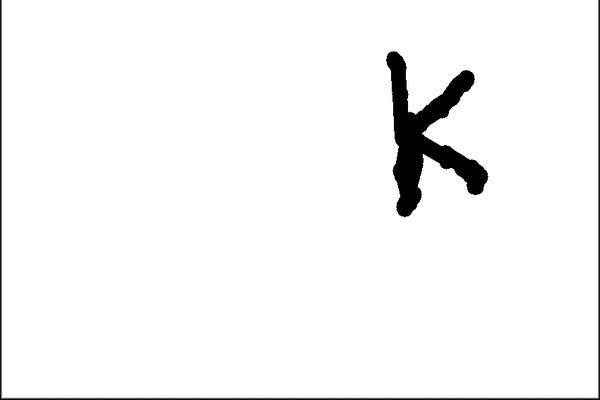K: (377, 39, 495, 229)
